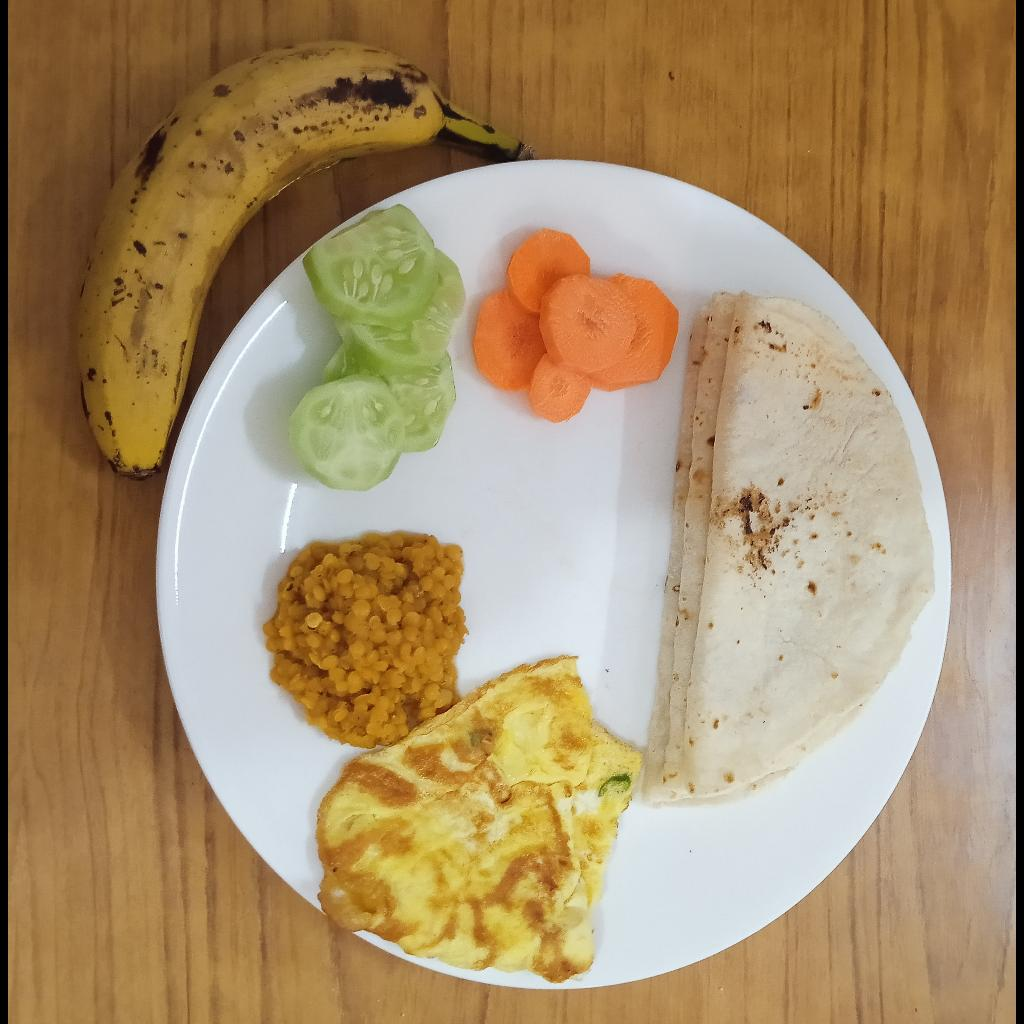banana: (77, 39, 540, 482)
carrot: (472, 228, 680, 424)
cucumber: (288, 203, 468, 491)
daal: (261, 530, 469, 748)
egg-poached: (314, 654, 644, 984)
ruti: (641, 292, 936, 809)
